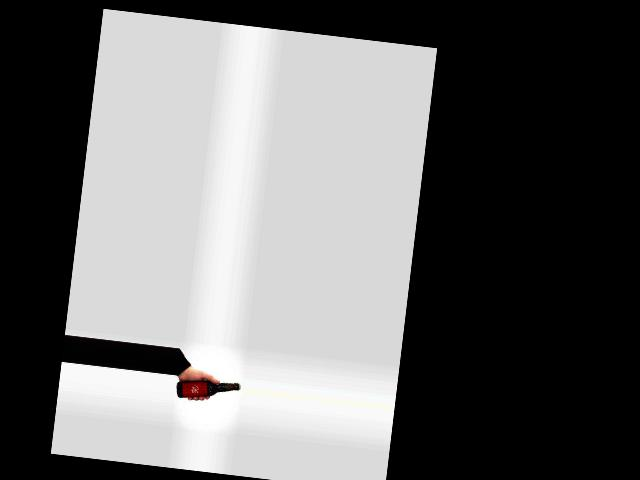beer: (175, 375, 241, 405)
